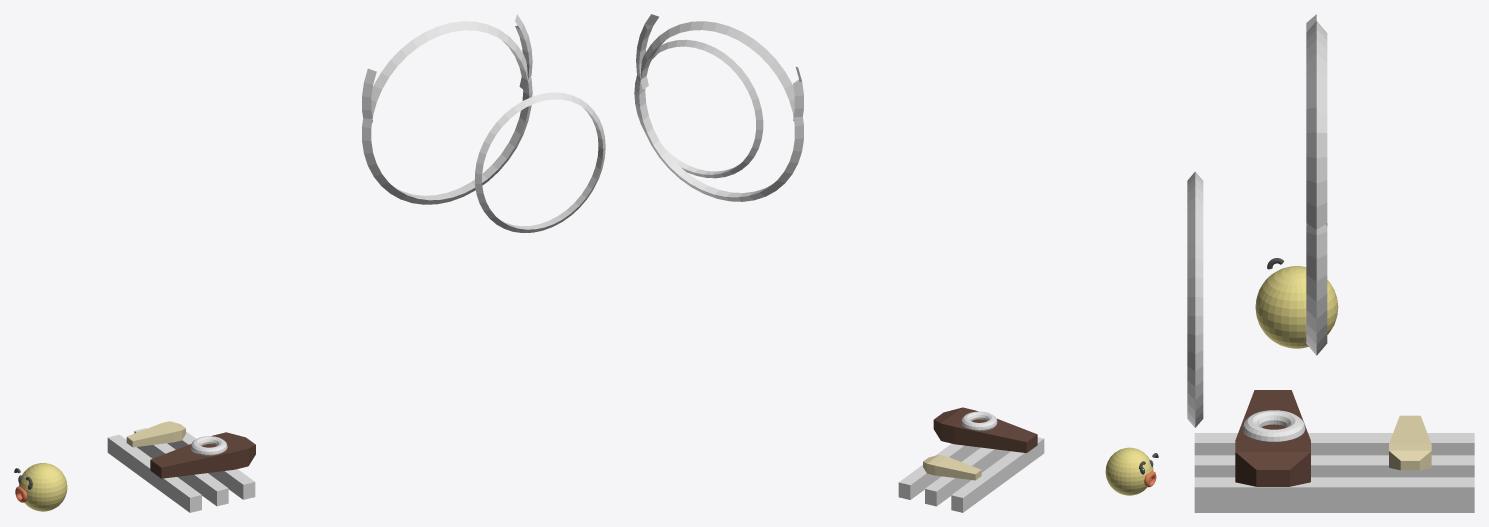
The model's file is baking-texture-test.fbx.
3 renders of one model, left to right at view 1: azimuth 30°, elevation 25°; view 2: azimuth 150°, elevation 25°; view 3: azimuth 270°, elevation 25°, orthographic. The views are drawn at different scales.
Parts seen in each view (by area): view 1: Torus.006, Torus.005, Cube, Cube.003, Sphere.002, Cube.002, Torus.007, Cube.001, Cube.004; view 2: Torus.006, Cube, Torus.005, Cube.003, Sphere.002, Cube.002, Cube.001, Torus.007, Cube.004; view 3: Cube.001, Cube, Torus.006, Torus.005, Cube.002, Sphere.002, Cube.003, Torus.007, Cube.004, Torus.004.
Boxes of the visible parts, box(x1,y1,x2,y2) form: Torus.006: box(362, 21, 532, 204); Torus.005: box(475, 92, 605, 232); Cube: box(150, 432, 255, 478); Cube.003: box(107, 434, 201, 512); Sphere.002: box(14, 463, 67, 511); Cube.002: box(134, 428, 228, 506); Torus.007: box(362, 14, 532, 122); Cube.001: box(167, 421, 255, 499); Cube.004: box(126, 421, 185, 447); Torus.006: box(636, 21, 803, 201); Cube: box(933, 407, 1037, 452); Torus.005: box(634, 39, 763, 178); Cube.003: box(951, 437, 1044, 512); Sphere.002: box(1105, 447, 1158, 495); Cube.002: box(925, 447, 1010, 506); Cube.001: box(898, 443, 980, 499); Torus.007: box(636, 14, 803, 120); Cube.004: box(923, 454, 981, 480); Cube.001: box(1194, 477, 1474, 512); Cube: box(1235, 390, 1310, 486); Torus.006: box(1306, 21, 1327, 355); Torus.005: box(1187, 171, 1203, 427); Cube.002: box(1194, 455, 1474, 477); Sphere.002: box(1255, 258, 1338, 348); Cube.003: box(1194, 433, 1474, 455); Torus.007: box(1306, 14, 1327, 229); Cube.004: box(1389, 415, 1431, 470); Torus.004: box(1242, 410, 1305, 441).
Size of the model in its own units: 2636 by 1773 by 694.
